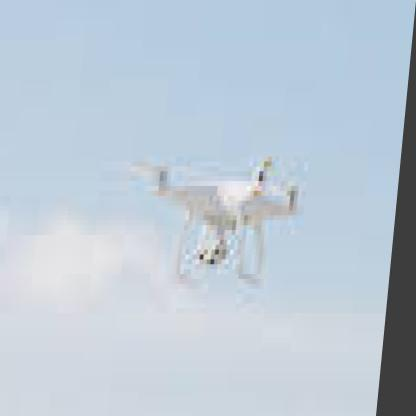UAS: (271, 352, 386, 411)
